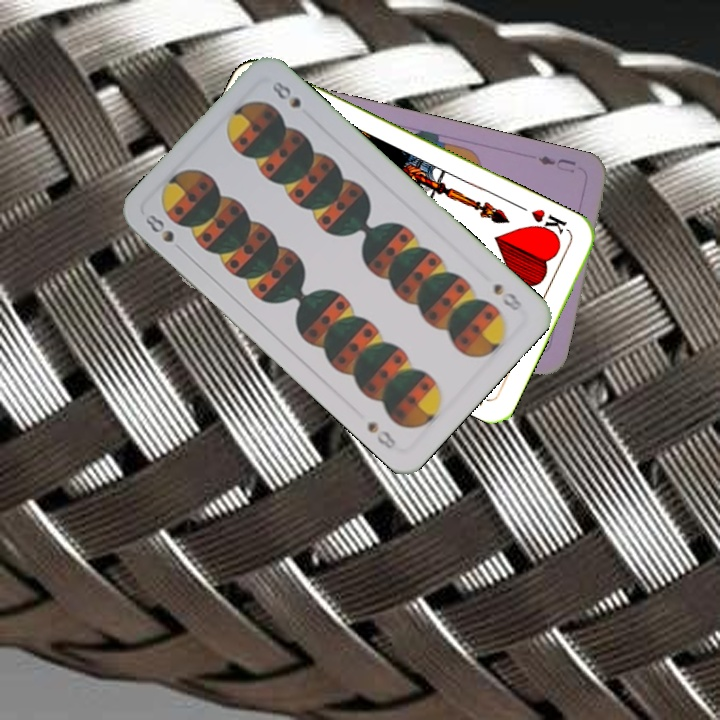EU: (534, 151, 579, 176)
HK: (527, 205, 573, 242)
S8: (141, 210, 177, 245), (489, 279, 525, 313)
